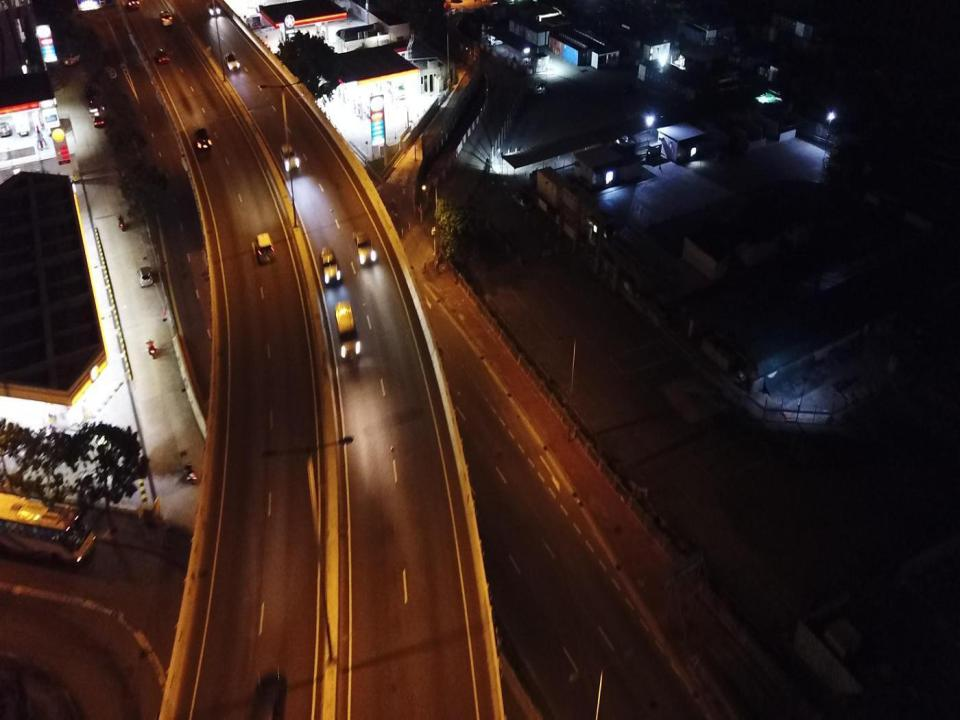bus: (0, 491, 95, 567), (38, 82, 63, 136), (384, 74, 408, 100)
car: (252, 672, 288, 719), (353, 229, 376, 267), (320, 247, 340, 288), (255, 233, 274, 264), (280, 144, 299, 172), (511, 192, 533, 211), (138, 266, 154, 289), (195, 128, 211, 149), (225, 53, 240, 71), (63, 51, 80, 65), (156, 47, 169, 64), (89, 92, 99, 114), (0, 118, 11, 137), (160, 11, 173, 26), (206, 2, 220, 15), (93, 113, 104, 128), (534, 82, 546, 95), (487, 34, 502, 44)
truck: (14, 103, 31, 135)
van: (335, 299, 359, 359)
